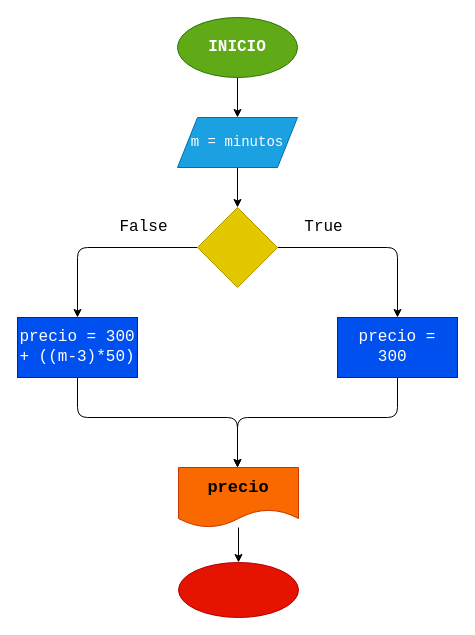
The diagram is 475 pixels wide and 635 high, and some of its shapes have lost their labels. The shapes that lost their labels are listed below. From the top down, each one's centre as x and y in pixels, then its label:
point 237,247: m <= 3
point 238,590: FIN
